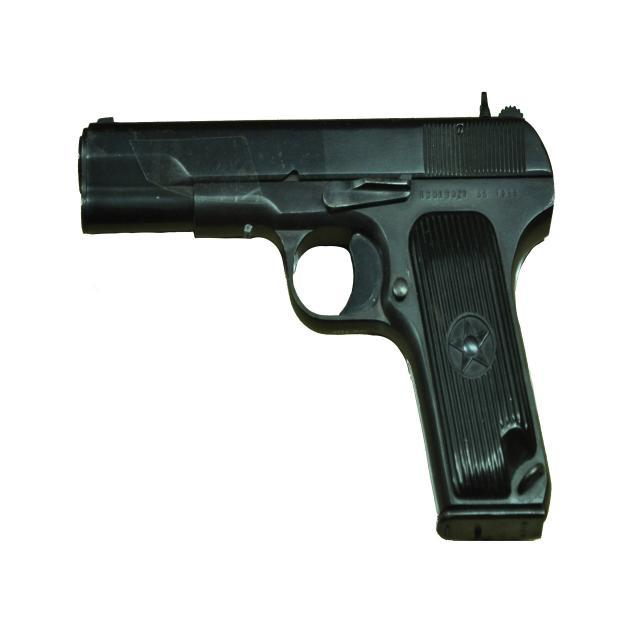Pistol: (61, 92, 584, 563)
